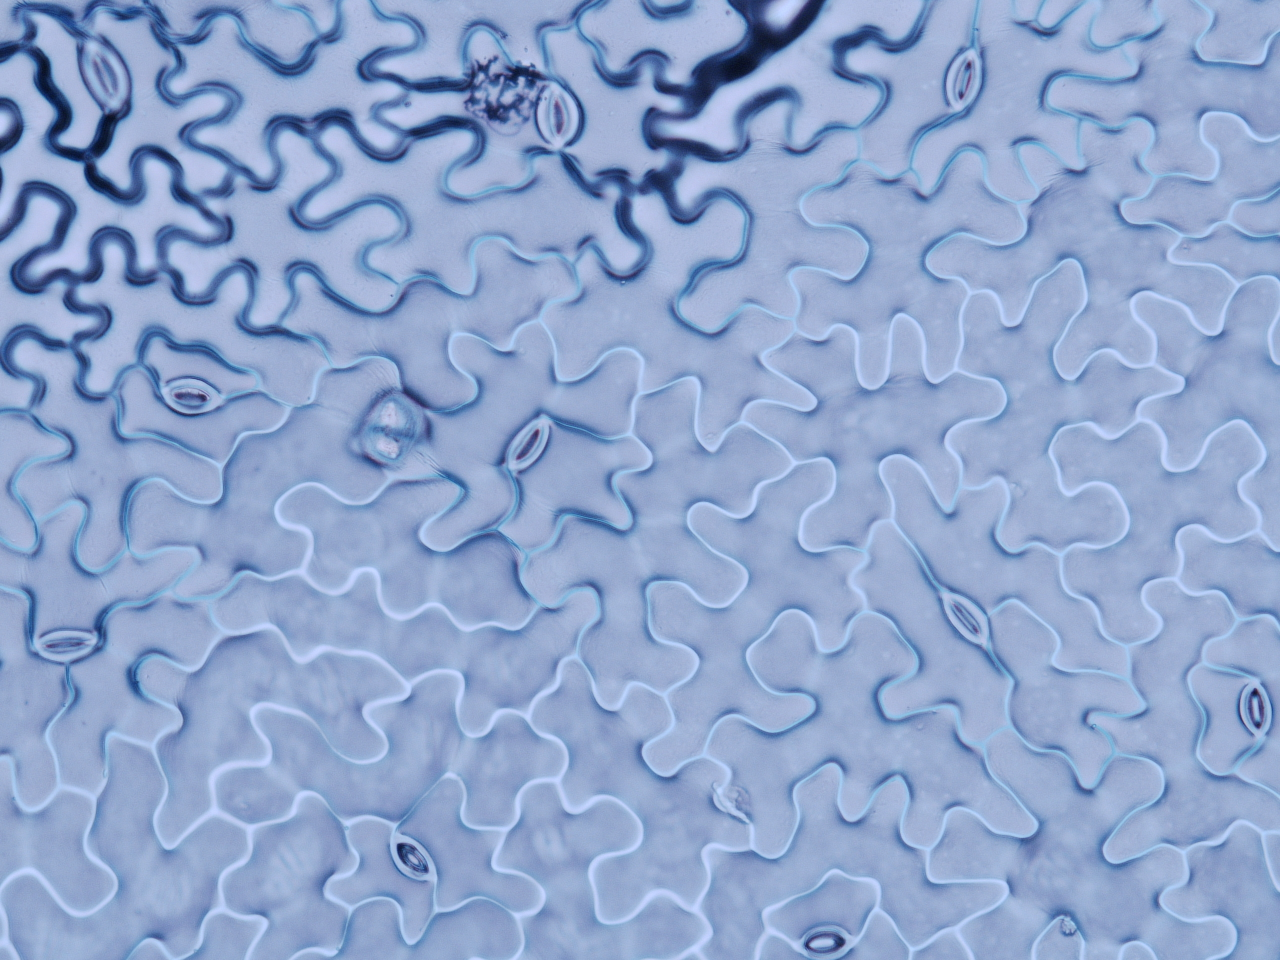estoma: (80, 40, 136, 115), (935, 587, 994, 653), (940, 38, 990, 116), (502, 416, 553, 471), (539, 77, 579, 145), (391, 832, 435, 886), (1240, 677, 1275, 742), (158, 381, 221, 417), (30, 631, 104, 659), (800, 920, 852, 954)
